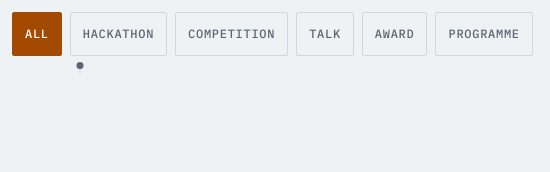
it: Timeline › clearing the filter puts the route back
Click the button "Award".
click(395, 34)  # box [362,12,428,56]
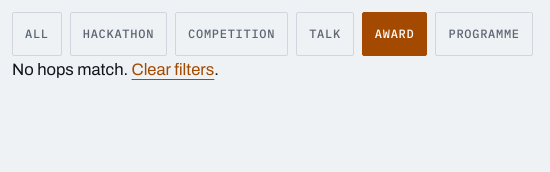
Click the button "Clear filters".
click(173, 69)  # box [132,56,214,83]
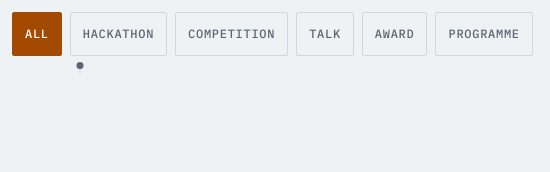
Now the text "No hops match" is gone
